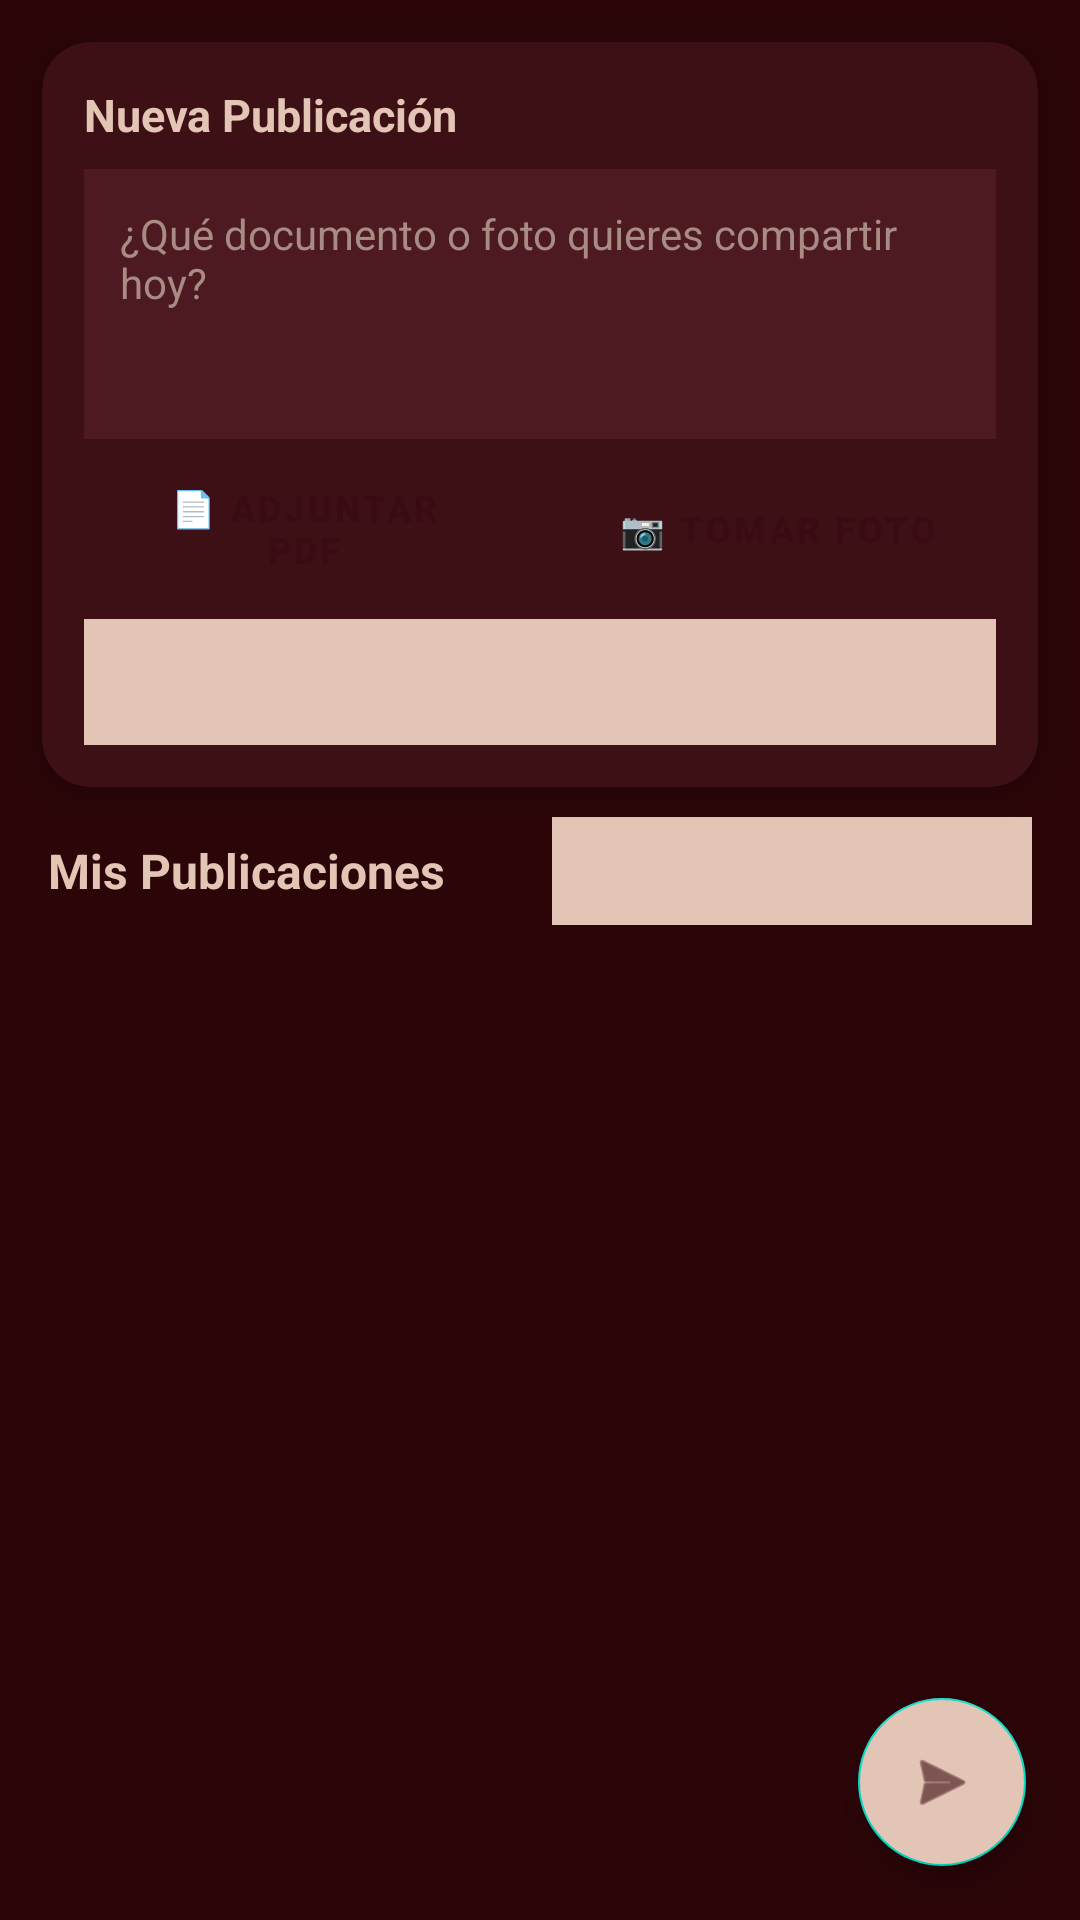

Where icons sit on this 1080px×1920px app screen, as (x1, y1, x2, y2):
Publicar: (858, 1698, 1026, 1866)
